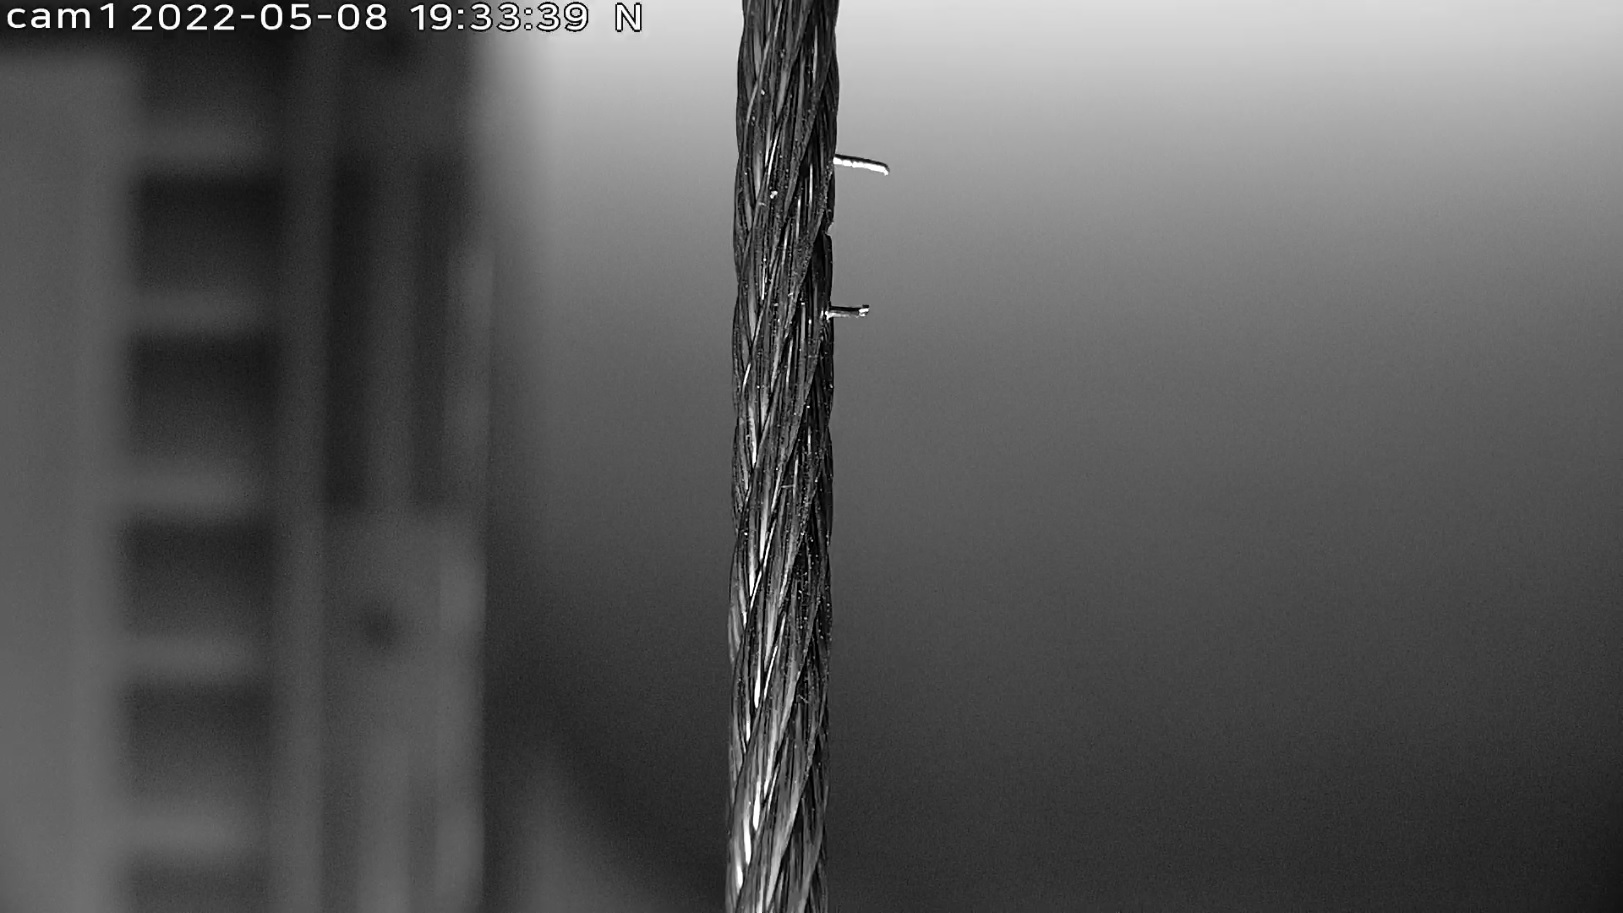gap: (827, 148, 892, 181), (820, 297, 874, 327)
